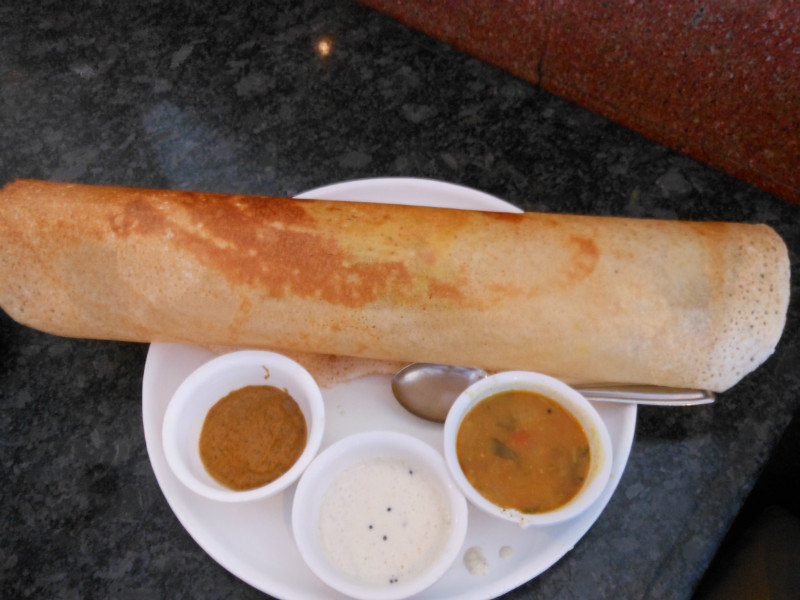dosa: (1, 161, 796, 422)
